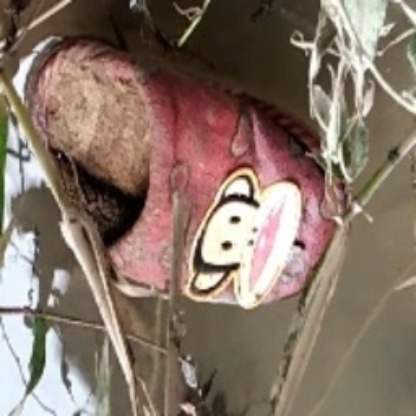plastic-garbage: (32, 39, 356, 302)
